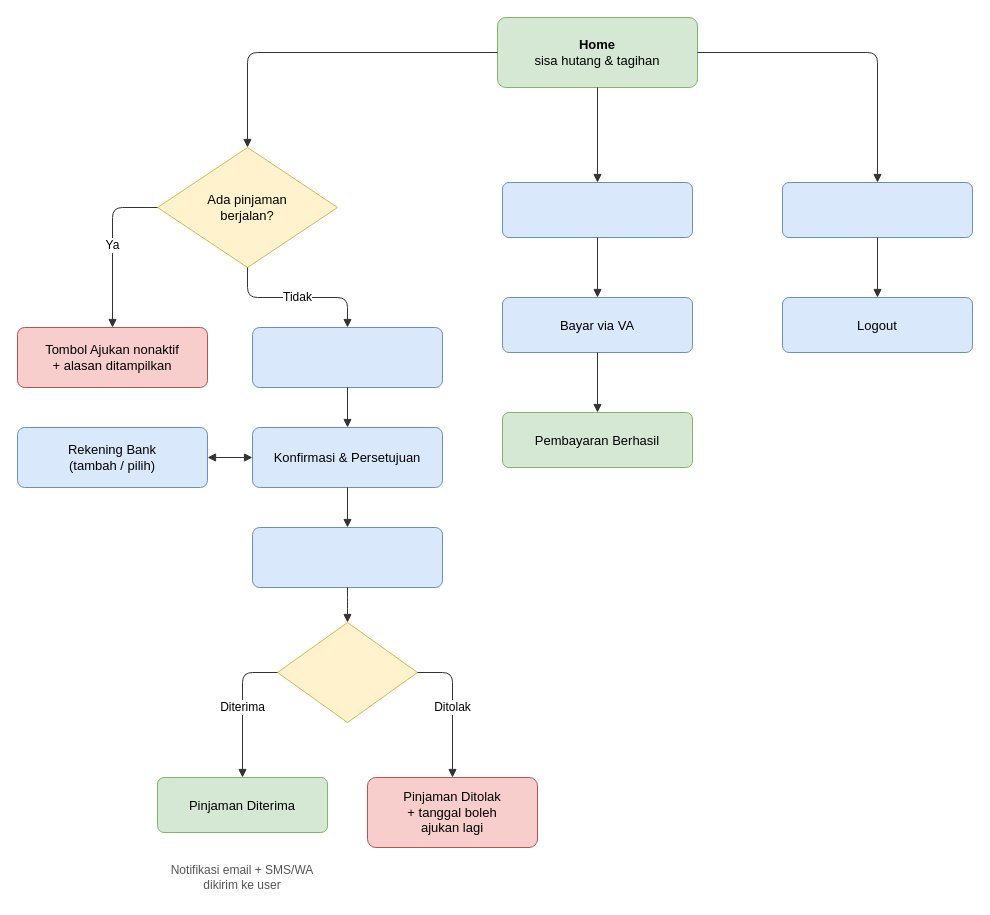
The diagram is 990 pixels wide and 915 high, and some of its shapes have lost their labels. The box of each missing label's shape, as (x1, y1, x2, y2) in pixels:
Ajukan Pinjaman (pilih nominal & tenor): (252, 326, 442, 388)
Detail Tagihan: (502, 182, 692, 238)
Hasil: (276, 622, 418, 722)
Pengajuan Diproses: (252, 526, 442, 588)
Profil: (782, 182, 972, 238)
